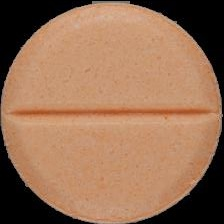0378-0257: (0, 0, 224, 224)
